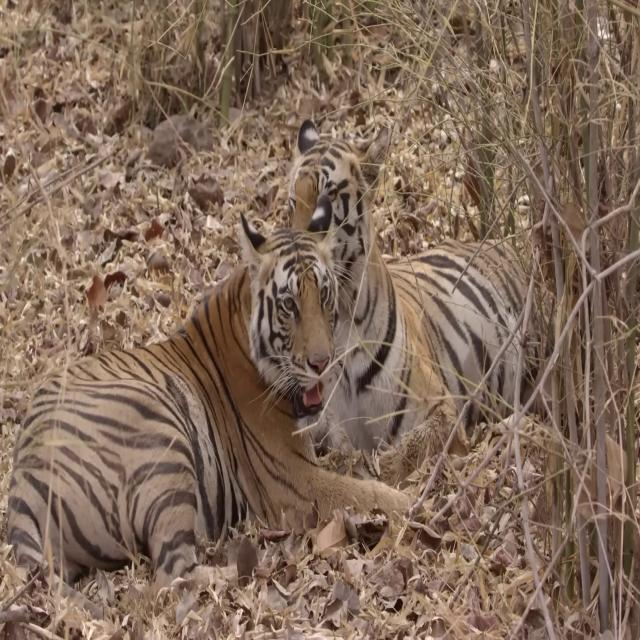tiger: (5, 193, 352, 640), (290, 118, 553, 483)
